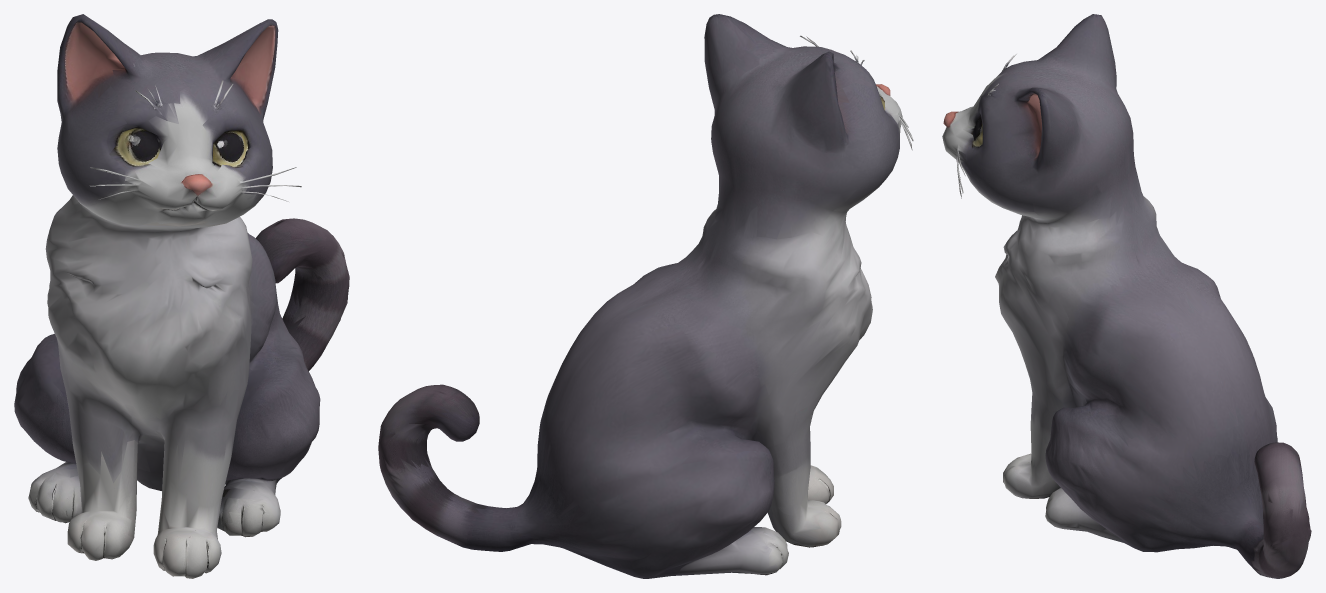
File: pet_kitten_v01.glb
The picture shows the model from 3 angles, left to right: view 1: azimuth 30°, elevation 25°; view 2: azimuth 150°, elevation 25°; view 3: azimuth 270°, elevation 25°; orthographic projection. The views are drawn at different scales.
Visible parts, largest first — view 1: Body; view 2: Body; view 3: Body.
Part boxes in pixels (x1,y1,x2,y2): Body: (14, 14, 349, 578); Body: (378, 14, 913, 578); Body: (942, 14, 1311, 578).
Size of the model in its own units: 0.366 by 0.4504 by 0.335.
Materials: 1 (1 with a texture image).
